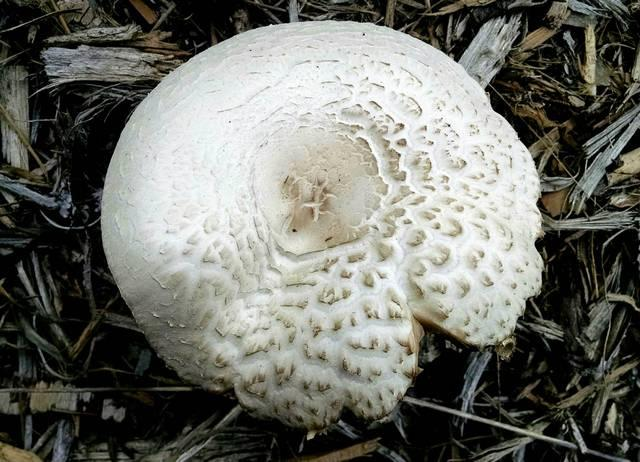poisonous_mushroom: (98, 18, 547, 438)
